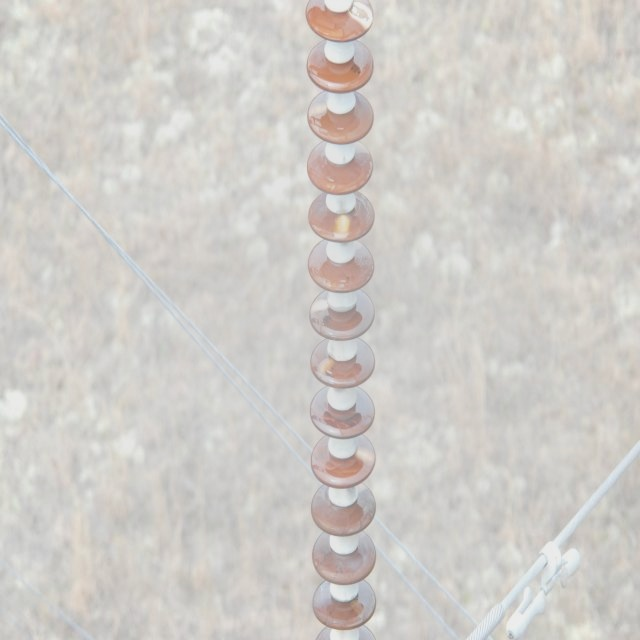insulator: (304, 2, 378, 640)
